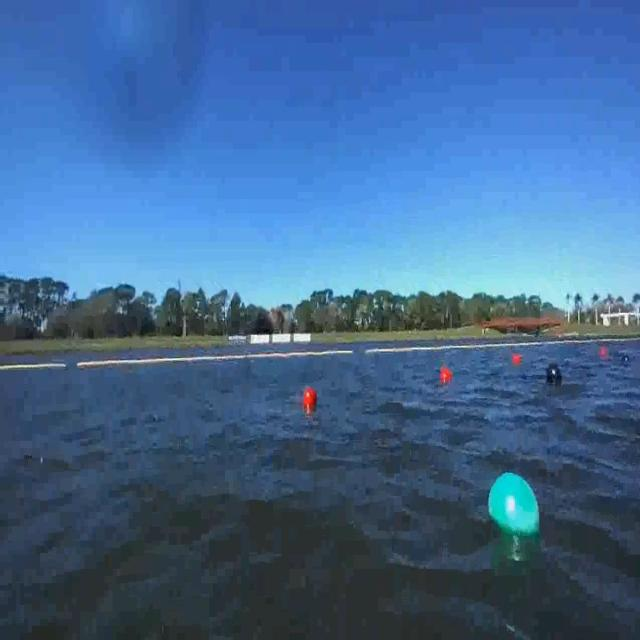black-buoy: (547, 362, 563, 386)
green-buoy: (487, 473, 540, 540)
red-buoy: (303, 386, 315, 406), (442, 369, 453, 385), (514, 353, 522, 366)
